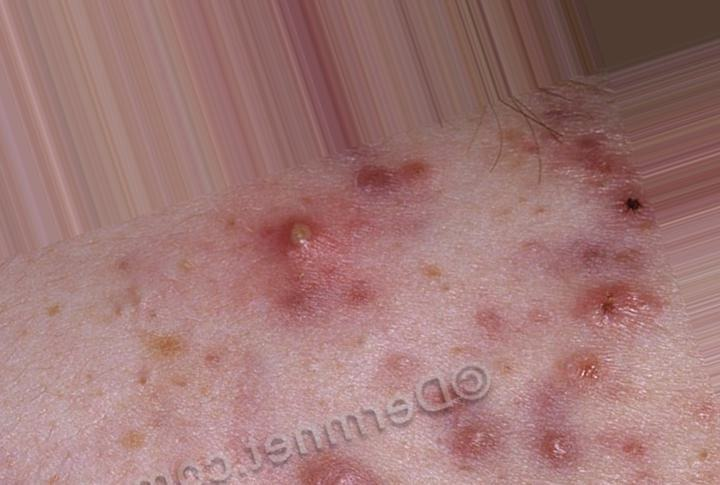Acne: (115, 141, 668, 457)
